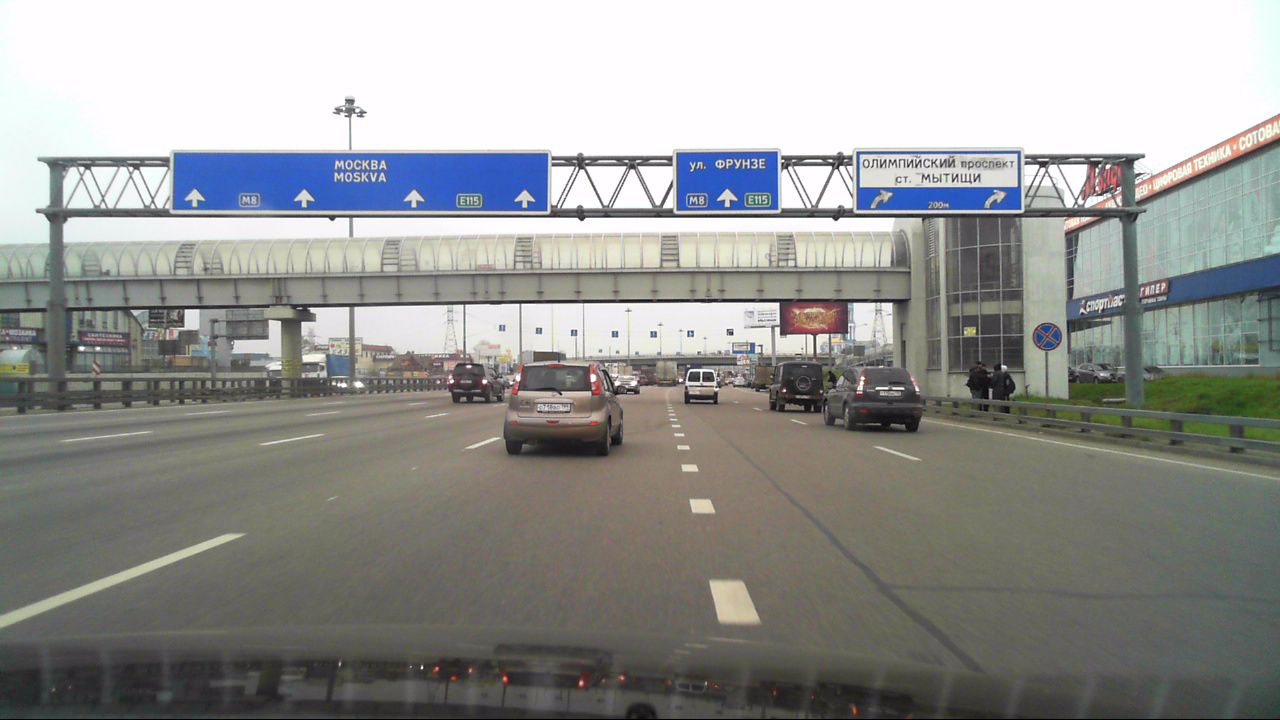No Parking: (1031, 322, 1062, 351)
